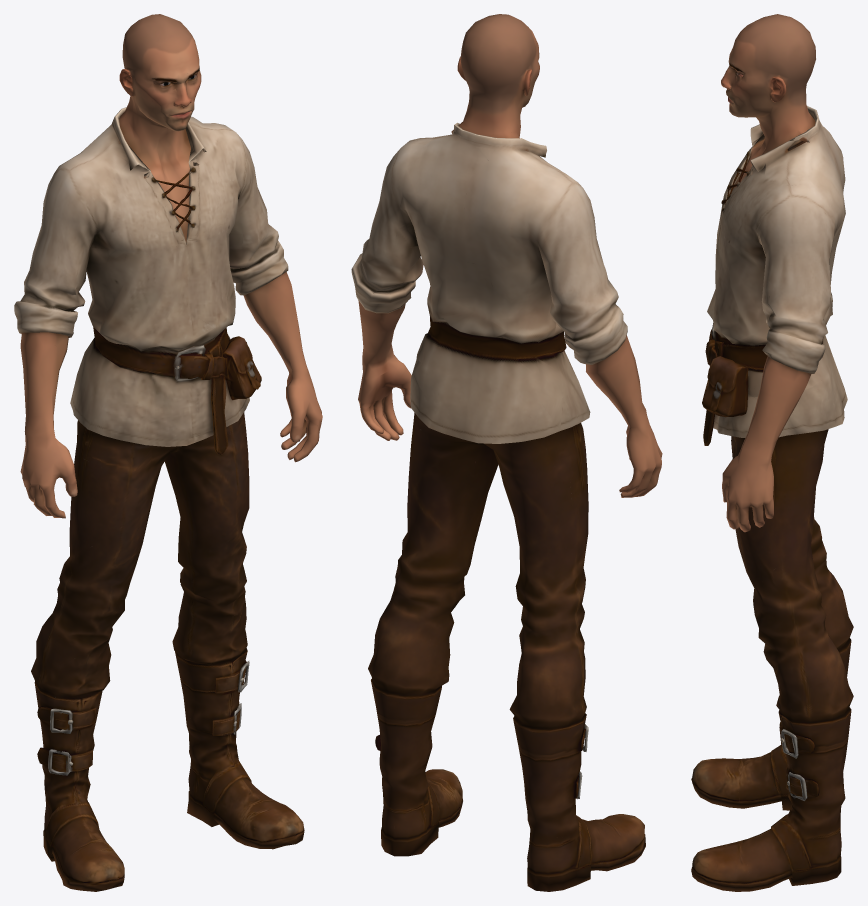
File: meshy-basis.glb
3 views of the same model, side by side, from view 1: azimuth 30°, elevation 25°; view 2: azimuth 150°, elevation 25°; view 3: azimuth 270°, elevation 25° (orthographic).
Visible parts, largest first — view 1: geometry_0; view 2: geometry_0; view 3: geometry_0.
Part boxes in pixels (<box>): geometry_0: <box>14,14,322,891</box>; geometry_0: <box>351,14,662,891</box>; geometry_0: <box>691,14,853,891</box>.
Bounding box in the file's own units: 0.354 × 0.9507 × 0.1709.
Materials: 1 (1 with a texture image).
